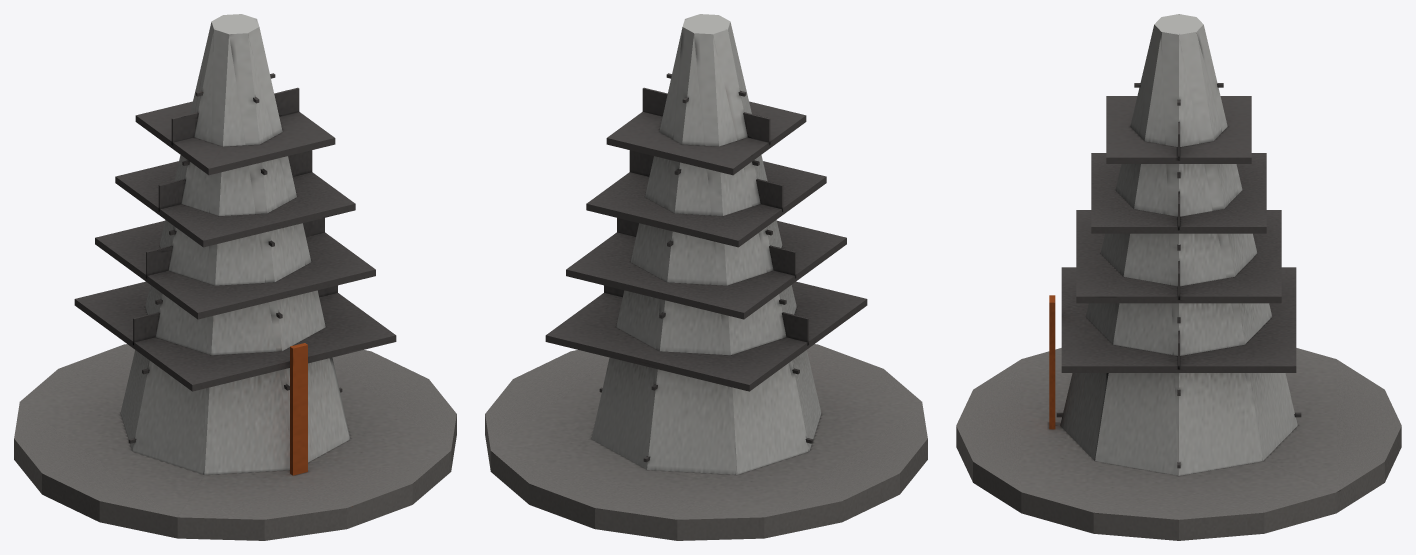
Rendered from radio_mast_1_kiln.glb.
3 renders of one model, left to right at view 1: azimuth 30°, elevation 25°; view 2: azimuth 150°, elevation 25°; view 3: azimuth 270°, elevation 25°, orthographic.
Visible parts, largest first — view 1: Cone; view 2: Cone; view 3: Cone.
Boxes of the visible parts, x1=… form: Cone: x1=14, y1=14, x2=456, y2=540; Cone: x1=485, y1=14, x2=927, y2=540; Cone: x1=956, y1=14, x2=1401, y2=540.
Size of the model in its own units: 15.3 by 16 by 15.3.
1 material, 1 textured.
